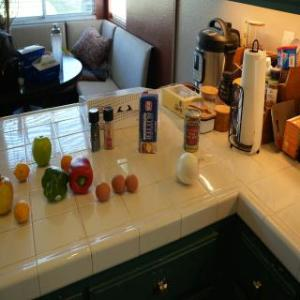bell_pepper: (67, 156, 97, 196), (40, 167, 70, 203)
egg: (94, 182, 110, 202), (112, 173, 126, 195), (126, 172, 138, 194)
onion: (174, 152, 204, 186)
